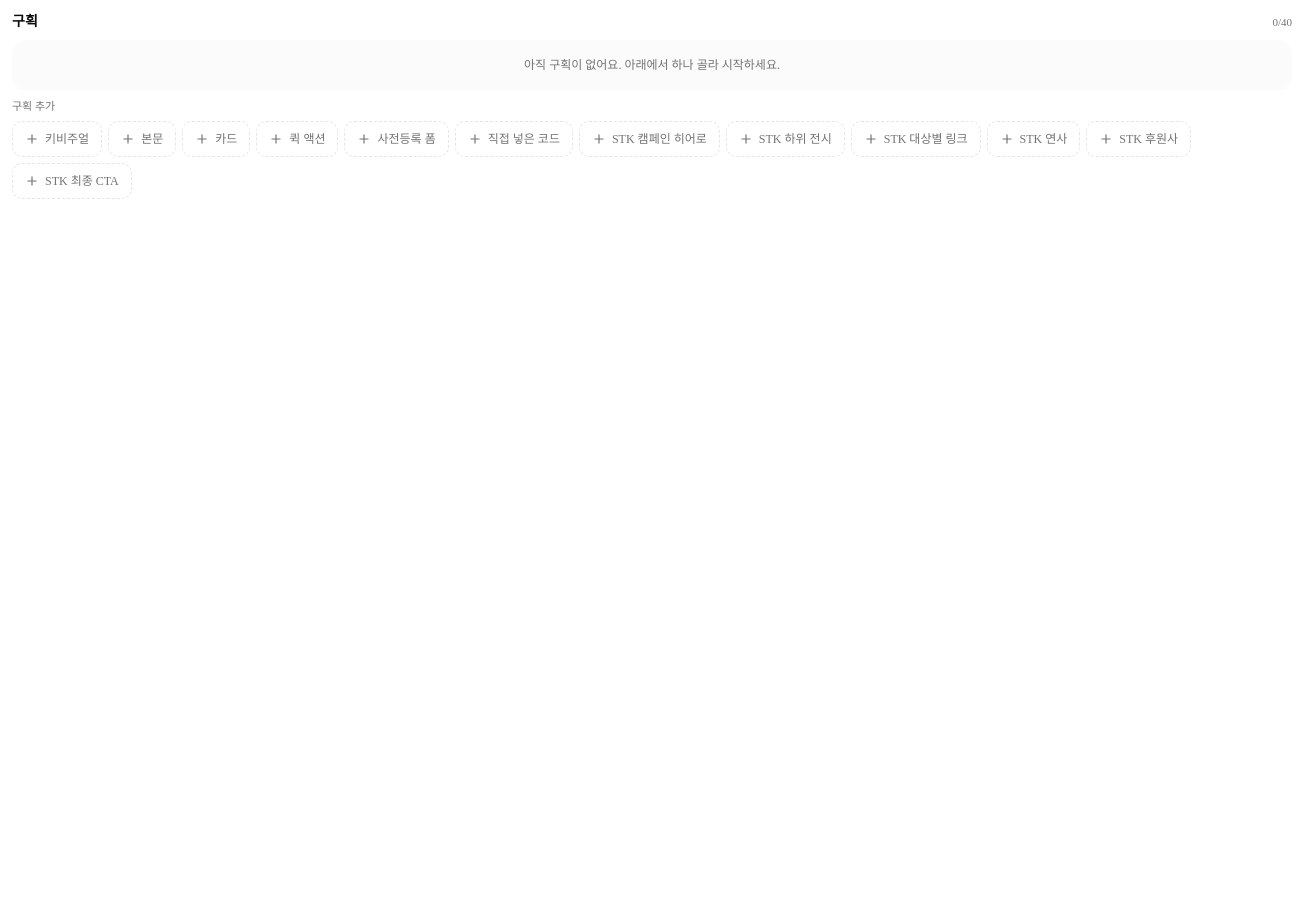
Test: 구획 추가 › 고르면 그 타입의 슬롯 칸이 곧바로 생긴다
The width and height of the screenshot is (1304, 912).
Click the button "키비주얼": (57,138) [12,120,102,156]
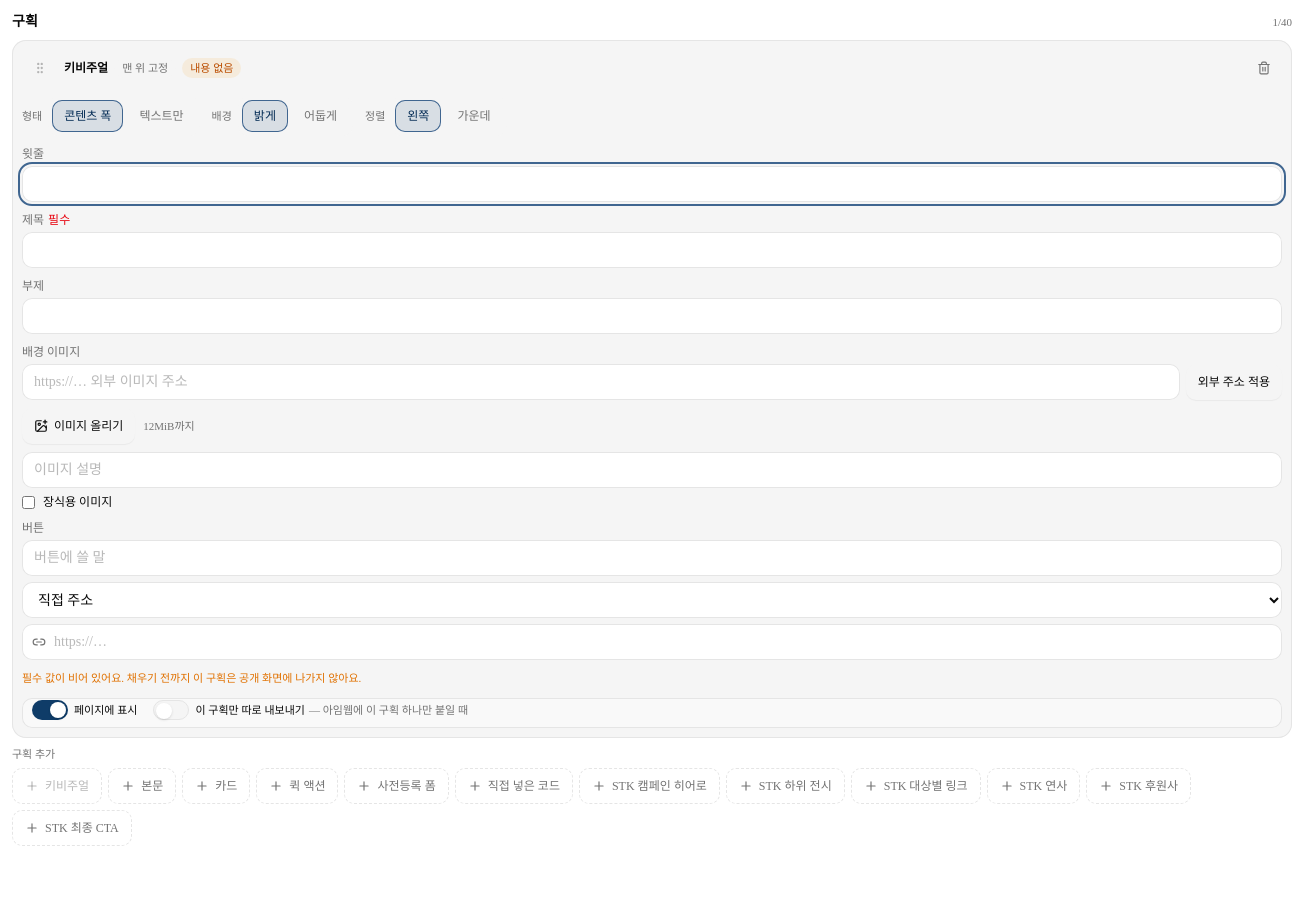
Now the field named "제목" is shown, box [22,232,1282,268]
Now the field named "윗줄" is shown, box [22,166,1282,202]
